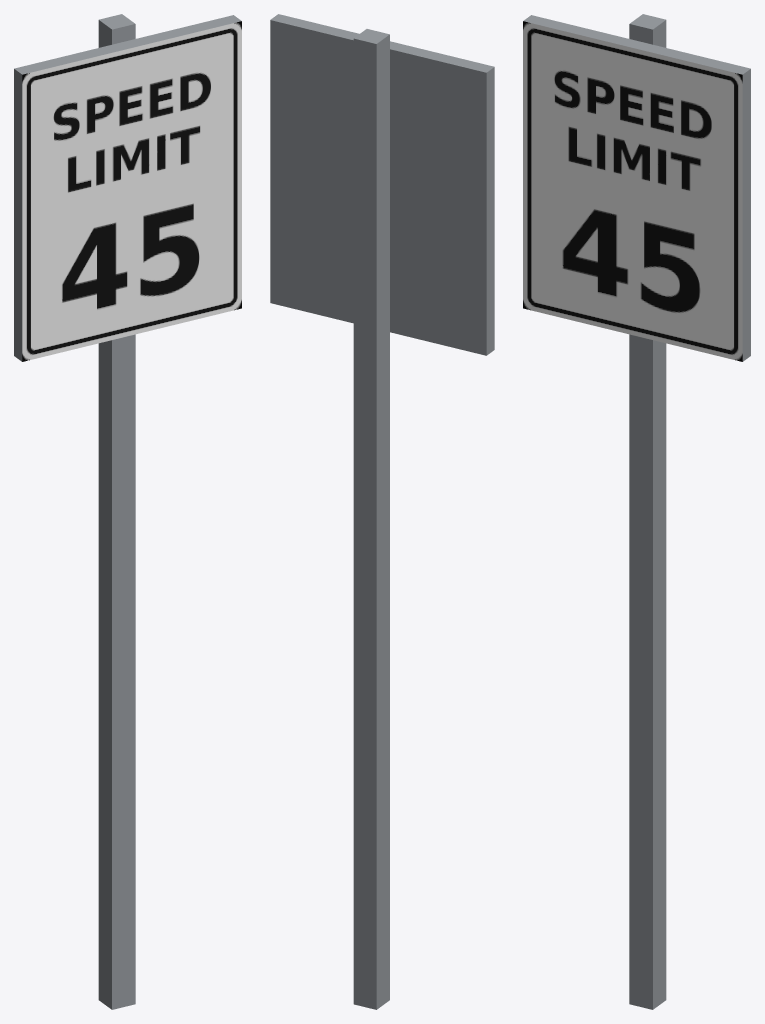
Rendered from us_speed45.dae.
The picture shows the model from 3 angles, left to right: view 1: azimuth 30°, elevation 25°; view 2: azimuth 150°, elevation 25°; view 3: azimuth 330°, elevation 25°; orthographic projection.
Parts seen in each view (by area): view 1: sign4, Colmesh-1; view 2: Colmesh-1, sign4; view 3: sign4, Colmesh-1.
Boxes of the visible parts, x1,y1,x2,y2 form: sign4: [22, 14, 241, 1009]; Colmesh-1: [14, 15, 241, 361]; Colmesh-1: [270, 14, 494, 355]; sign4: [353, 29, 389, 1009]; sign4: [523, 14, 742, 1009]; Colmesh-1: [523, 15, 750, 361].
Bounding box in the file's own units: 0.6096 × 0.105 × 2.6.
Materials: 2 (1 with a texture image).
